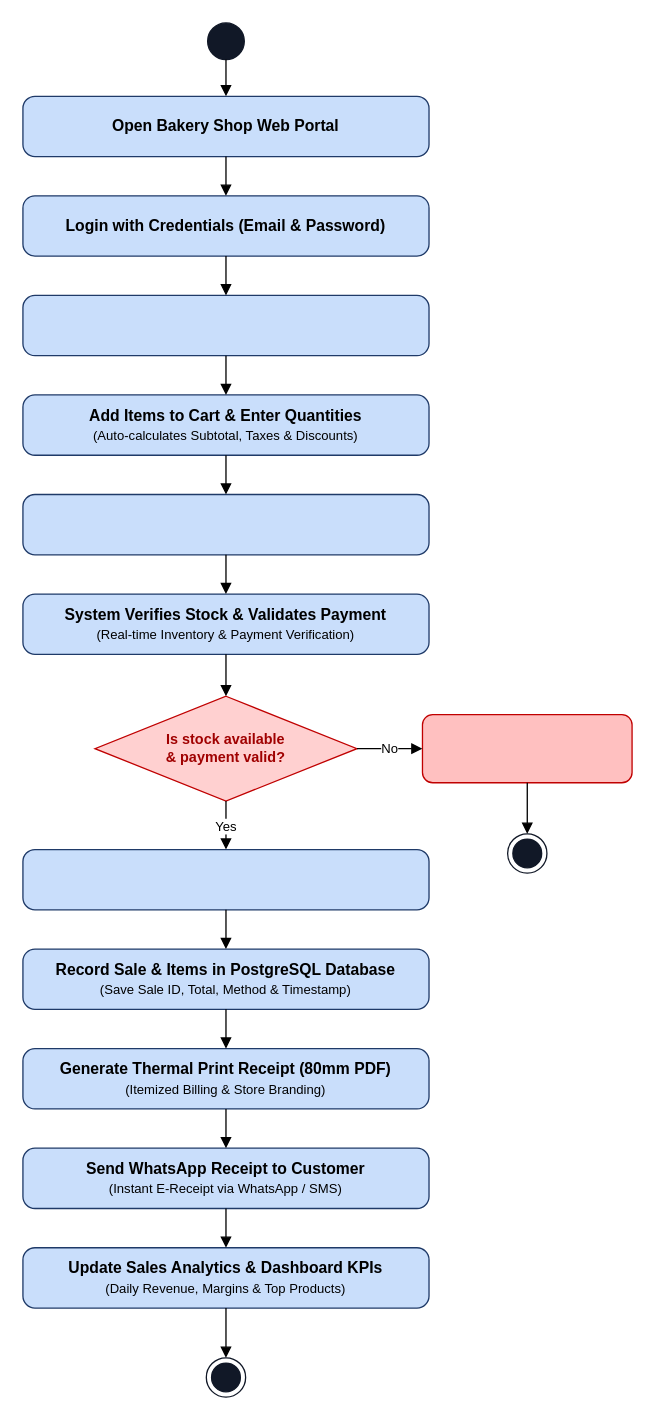
This 655x1420 diagram has some shape labels left out. The shapes that lost their labels are listed below. From the top down, each one's box as (x1, y1, x2, y2) in pixels, then its label:
(22, 294, 429, 356): Select Products from POS Catalog (Browse Categories: Bread, Pastry, Cakes)
(22, 493, 429, 555): Select Payment Method & Checkout (Cash, Card, UPI / QR Code)
(421, 713, 632, 783): Show stock error / payment failed
(22, 848, 429, 910): Deduct Product Quantities from Stock (Real-time Inventory Ledger Update)
